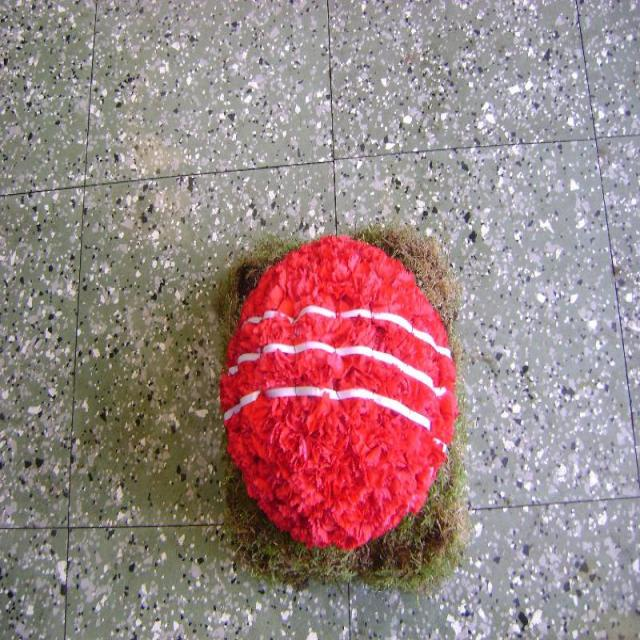ball: (230, 260, 458, 540)
